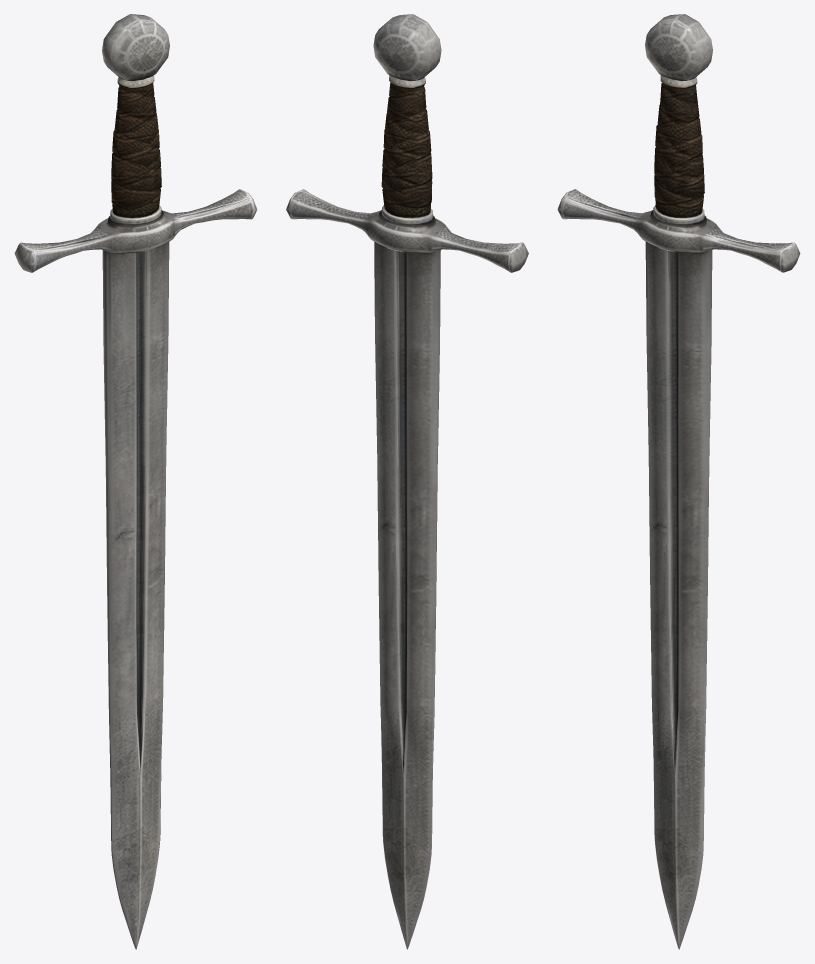
The model's file is sword-upgraded.glb.
3 renders of one model, left to right at view 1: azimuth 30°, elevation 25°; view 2: azimuth 150°, elevation 25°; view 3: azimuth 330°, elevation 25°, orthographic.
Parts seen in each view (by area): view 1: tripo_node_9cb2a27d-9ab8-4754-af66-c23daf6e6ca4; view 2: tripo_node_9cb2a27d-9ab8-4754-af66-c23daf6e6ca4; view 3: tripo_node_9cb2a27d-9ab8-4754-af66-c23daf6e6ca4.
Boxes of the visible parts, x1=… form: tripo_node_9cb2a27d-9ab8-4754-af66-c23daf6e6ca4: x1=14, y1=14, x2=257, y2=949; tripo_node_9cb2a27d-9ab8-4754-af66-c23daf6e6ca4: x1=286, y1=14, x2=528, y2=949; tripo_node_9cb2a27d-9ab8-4754-af66-c23daf6e6ca4: x1=557, y1=14, x2=800, y2=949.
Bounding box in the file's own units: 0.2593 × 0.9995 × 0.0522.
1 material, 1 textured.
